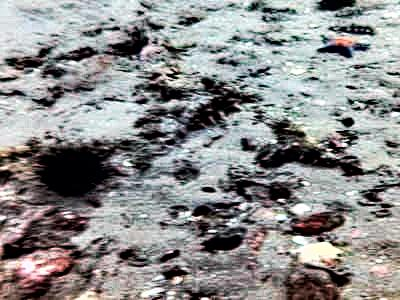urchin: (34, 143, 109, 197)
